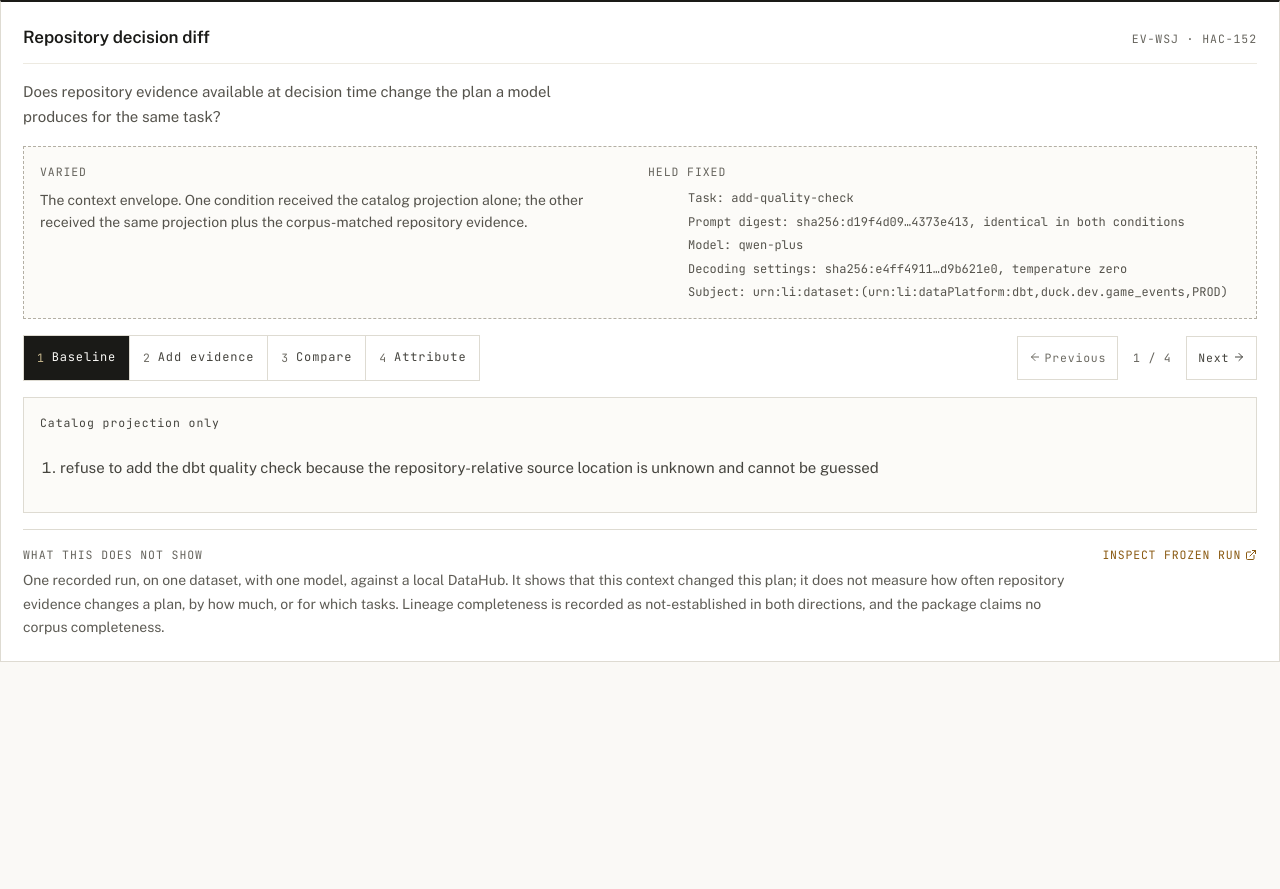
RepositoryDecisionDiff › re-expands folded evidence on request, and keeps it expanded
Click the button "3 Compare". click: (316, 358)
box: [267,336,365,380]
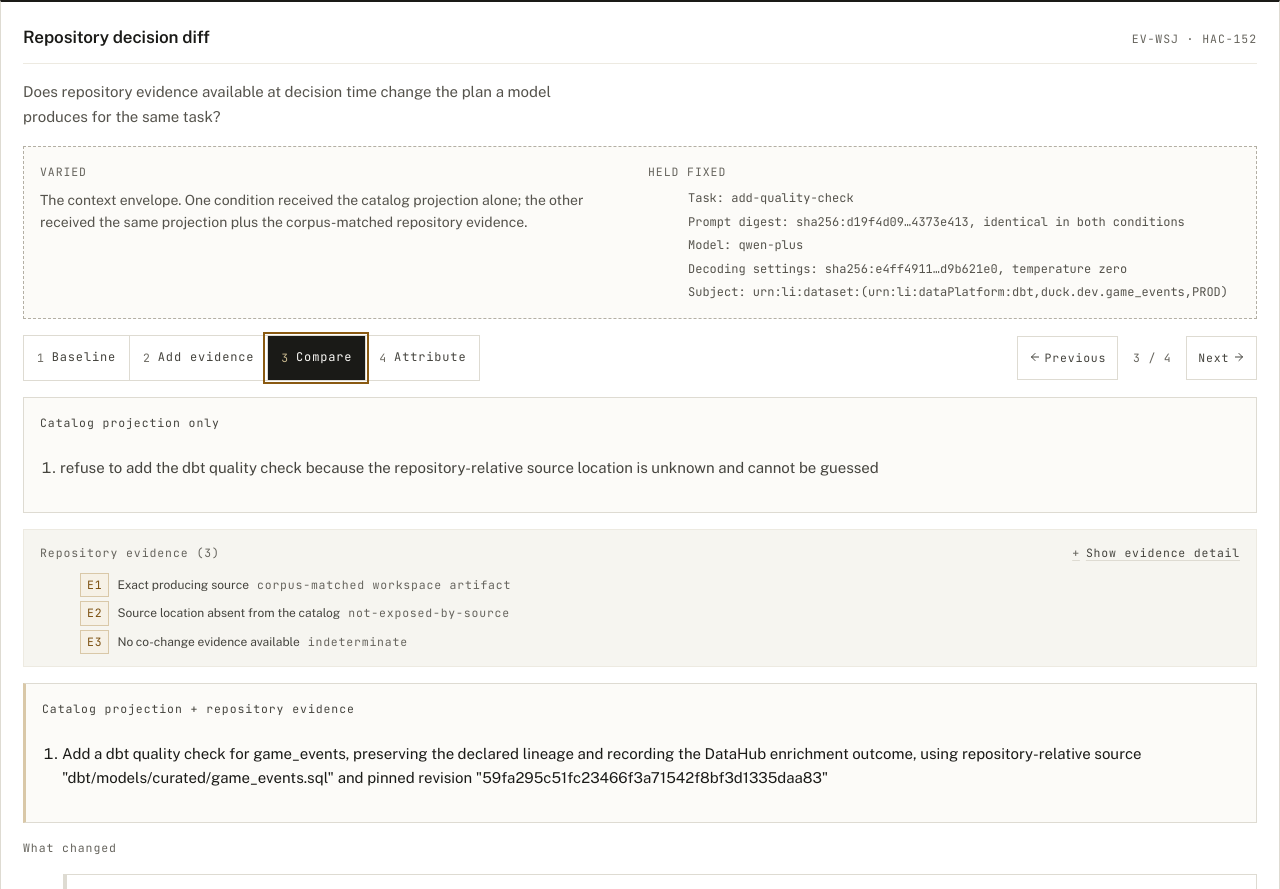
Click the button "+ Show evidence detail". click: (1156, 554)
box: [1072,542,1240,565]
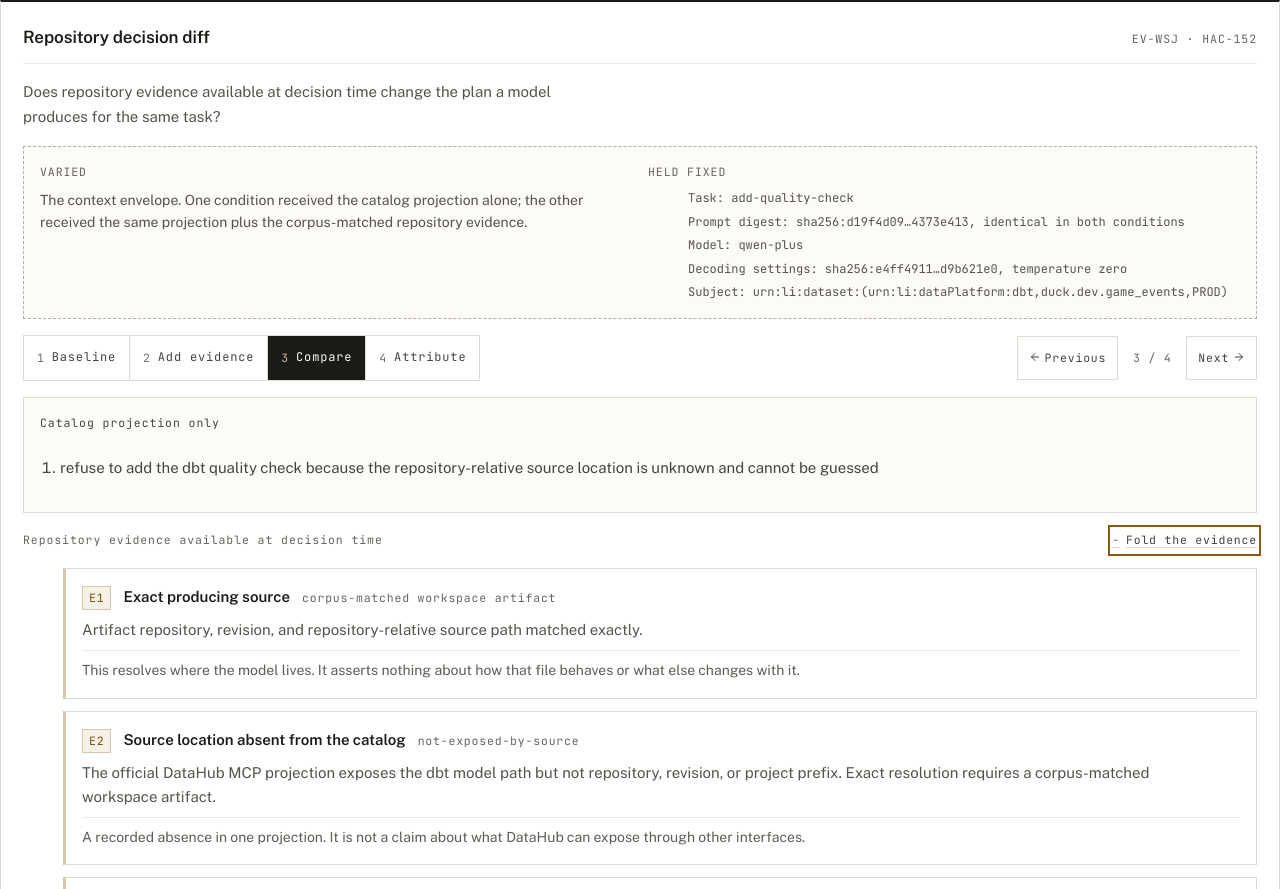
Expected: the text "Artifact repository, revision" is shown, [82,621,643,638]
Click the button "4 Attribute". click: (422, 358)
box: [365,336,479,380]
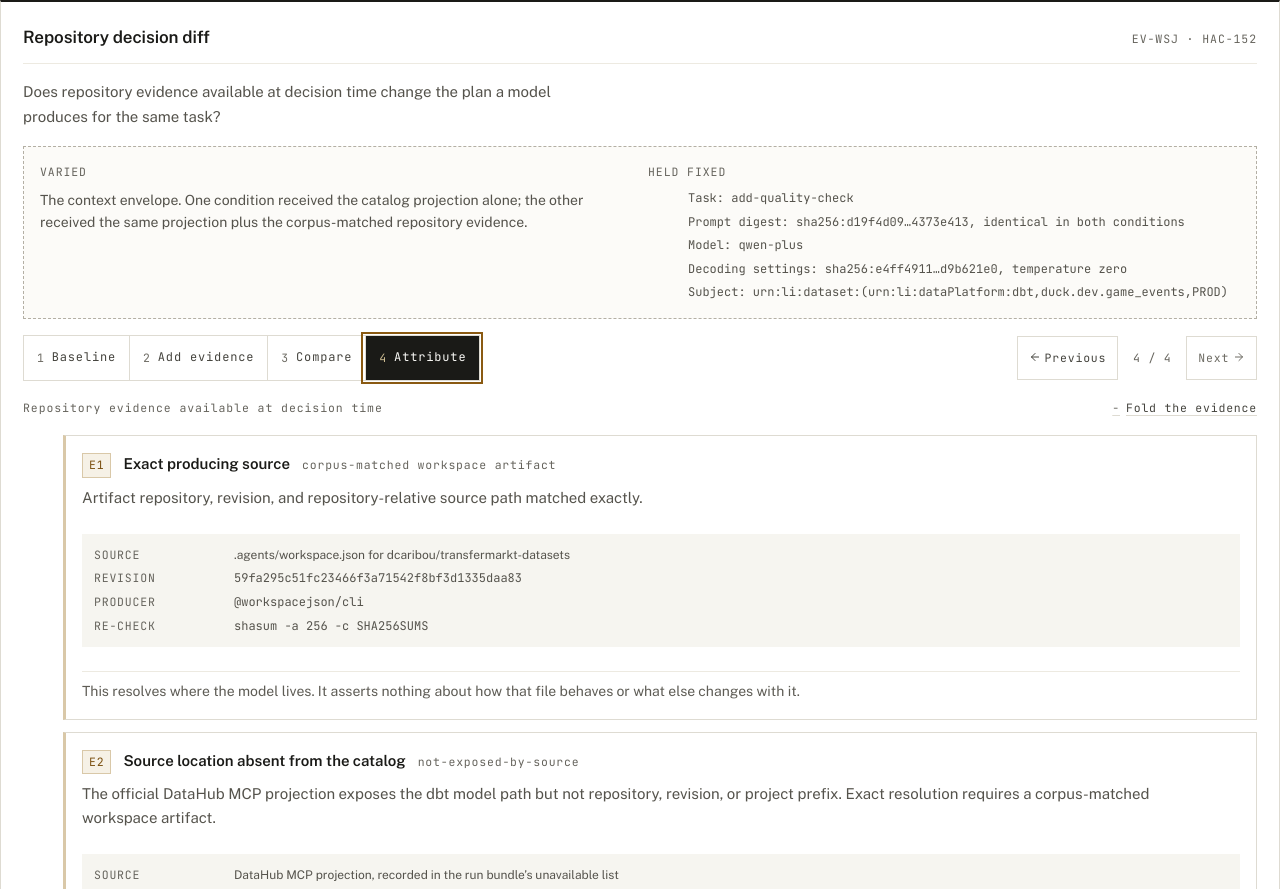
Expected: the text "Artifact repository, revision" is shown, [82,489,643,506]
Expected: the text "@workspacejson/cli" is shown, [234,594,364,610]
